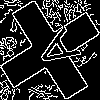A: (25, 25, 82, 78)
